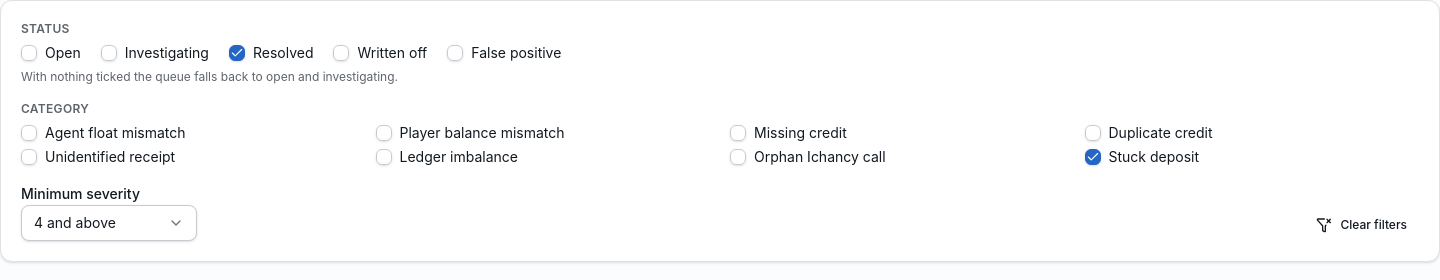
Test case: BreakFilters › clears every filter back to the defaults
Click the button "Clear filters": (1362, 225) [1304,209,1419,241]
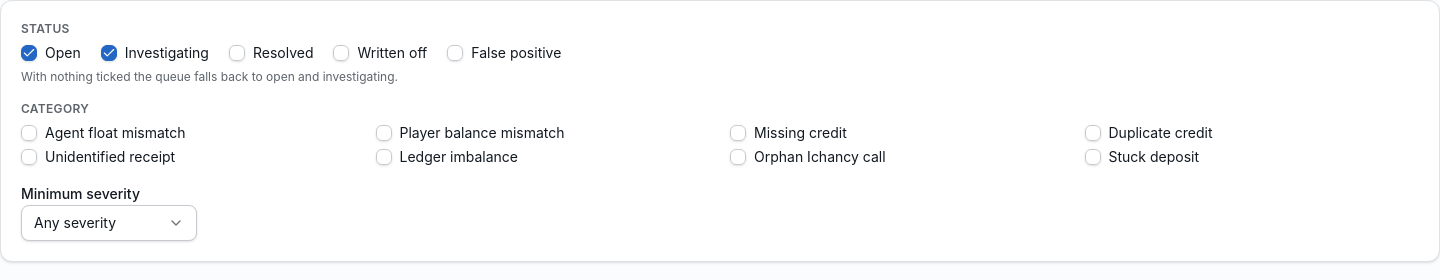
Result: the 1st checkbox named "Open" is checked at [21,45,37,61]
Result: the checkbox named "Resolved" next to "Resolved" is not checked at [229,45,245,61]
